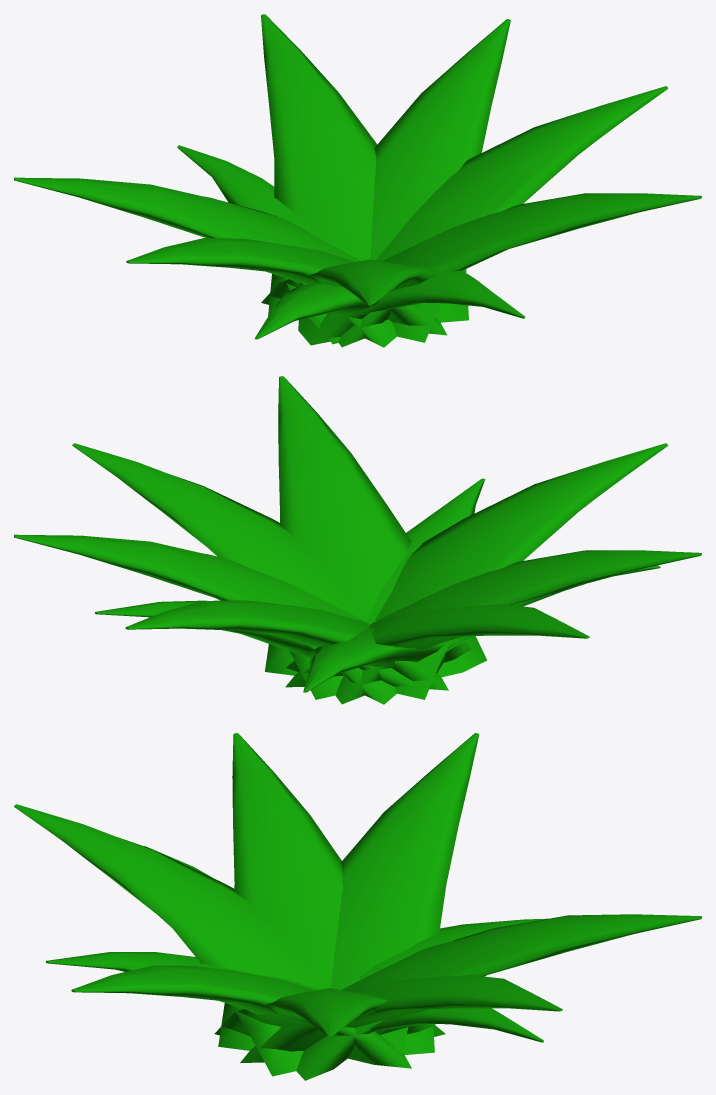
Rendered from GrassHigh.FBX.
3 renders of one model, top to bottom at view 1: azimuth 30°, elevation 25°; view 2: azimuth 150°, elevation 25°; view 3: azimuth 270°, elevation 25°, orthographic. The views are drawn at different scales.
Visible parts, largest first — view 1: Loft023, Loft024, Loft007, Loft020, Loft015, Loft022, Loft012, Loft010, Loft021, Loft011; view 2: Loft020, Loft021, Loft007, Loft024, Loft022, Loft023, Loft015, Loft010, Loft012, Loft013; view 3: Loft015, Loft022, Loft021, Loft023, Loft020, Loft024, Loft007, Loft013, Loft012, Loft010.
Boxes of the visible parts, x1=… form: Loft023: x1=261, y1=14, x2=377, y2=316; Loft024: x1=370, y1=19, x2=510, y2=322; Loft007: x1=376, y1=86, x2=668, y2=342; Loft020: x1=338, y1=193, x2=701, y2=347; Loft015: x1=14, y1=177, x2=396, y2=347; Loft022: x1=126, y1=238, x2=447, y2=335; Loft012: x1=298, y1=264, x2=525, y2=345; Loft010: x1=177, y1=145, x2=342, y2=344; Loft021: x1=261, y1=259, x2=438, y2=305; Loft011: x1=254, y1=283, x2=380, y2=339; Loft020: x1=265, y1=376, x2=411, y2=675; Loft021: x1=375, y1=443, x2=668, y2=699; Loft007: x1=72, y1=443, x2=367, y2=699; Loft024: x1=14, y1=534, x2=396, y2=704; Loft022: x1=335, y1=550, x2=701, y2=704; Loft023: x1=125, y1=600, x2=448, y2=690; Loft015: x1=285, y1=604, x2=589, y2=687; Loft010: x1=286, y1=627, x2=471, y2=692; Loft012: x1=367, y1=478, x2=487, y2=677; Loft013: x1=95, y1=600, x2=413, y2=686; Loft015: x1=331, y1=733, x2=479, y2=1054; Loft022: x1=218, y1=733, x2=435, y2=1050; Loft021: x1=14, y1=804, x2=324, y2=1076; Loft023: x1=296, y1=914, x2=701, y2=1080; Loft020: x1=71, y1=965, x2=411, y2=1068; Loft024: x1=240, y1=975, x2=562, y2=1062; Loft007: x1=214, y1=988, x2=445, y2=1036; Loft013: x1=370, y1=1008, x2=543, y2=1042; Loft012: x1=46, y1=952, x2=319, y2=990; Loft010: x1=360, y1=918, x2=547, y2=1054.
Bounding box in the file's own units: 0.2279 × 0.0537 × 0.2191.
